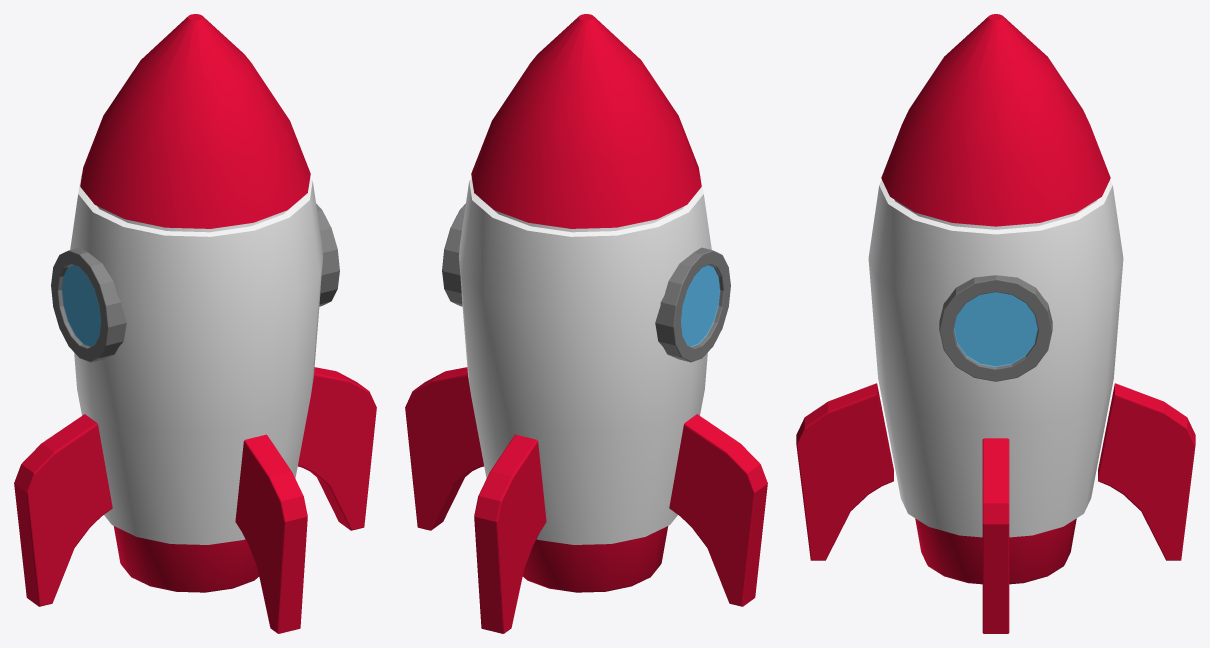
The model's file is Rocket.fbx.
3 renders of one model, left to right at view 1: azimuth 30°, elevation 25°; view 2: azimuth 150°, elevation 25°; view 3: azimuth 270°, elevation 25°, orthographic.
Parts seen in each view (by area): view 1: Cylinder; view 2: Cylinder; view 3: Cylinder.
Boxes of the visible parts, left/top/right/bottom form: Cylinder: left=14, top=14, right=376, bottom=633; Cylinder: left=405, top=14, right=767, bottom=633; Cylinder: left=796, top=14, right=1195, bottom=633.
Size of the model in its own units: 343 by 510 by 343.
